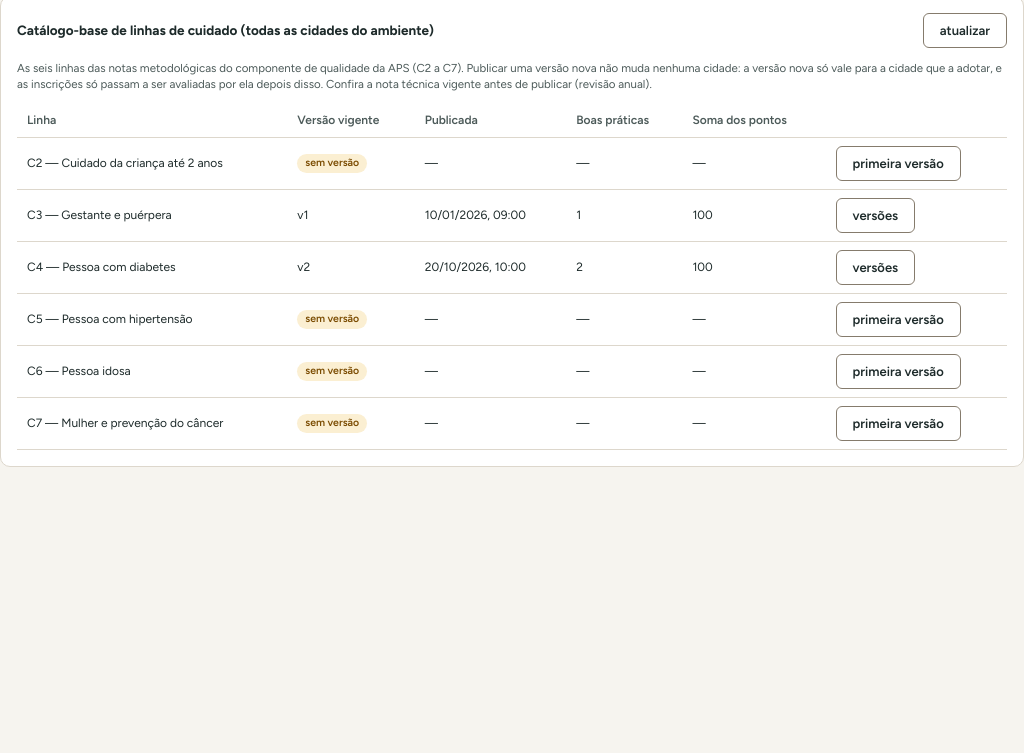
Test: CareLineTemplateForm › soma diferente de 100 é recusada antes de enviar
Click the button "versões" in the row of "C4 — Pessoa com diabetes" at coordinates (875, 268), box [836,250,915,285]
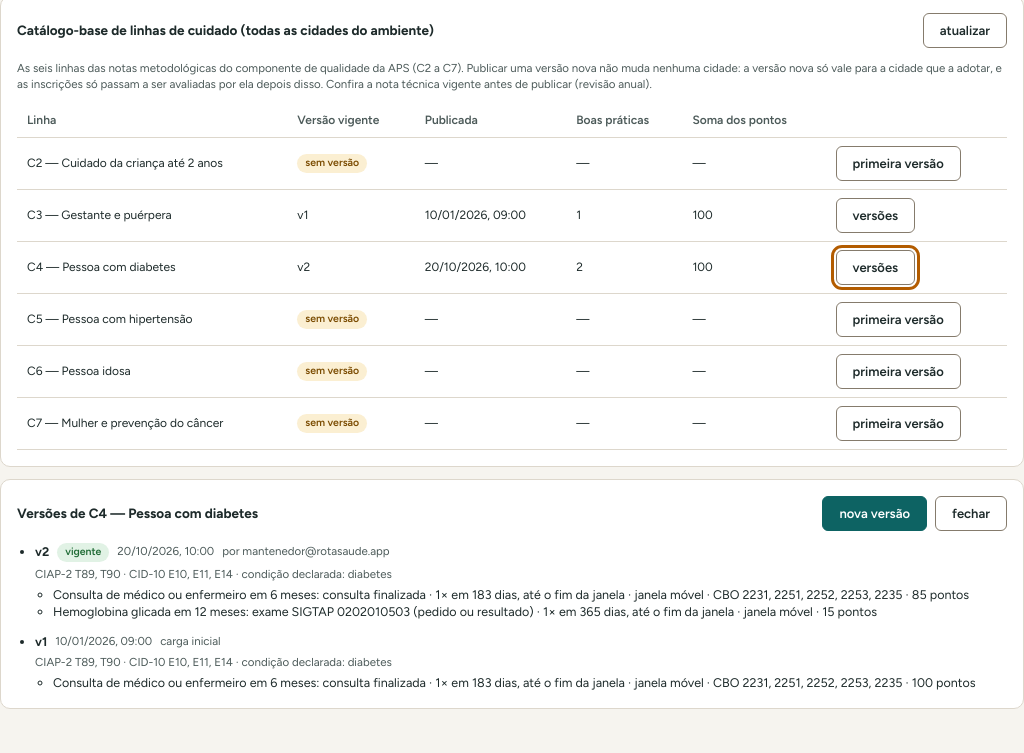
Click the button "nova versão" at coordinates (875, 514), box [822,496,927,531]
(page scrolled)
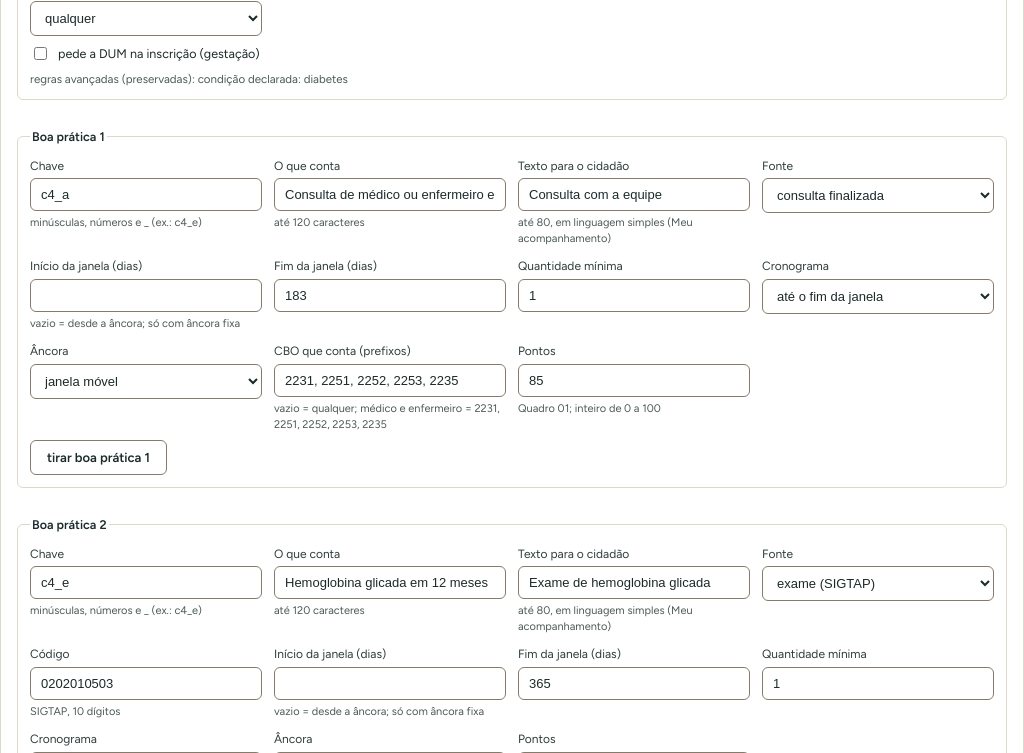
Replace the text in the field labelled "Pontos" below "CBO que conta (prefixos)" with "80" at coordinates (634, 381), box [518,364,750,397]
(page scrolled)
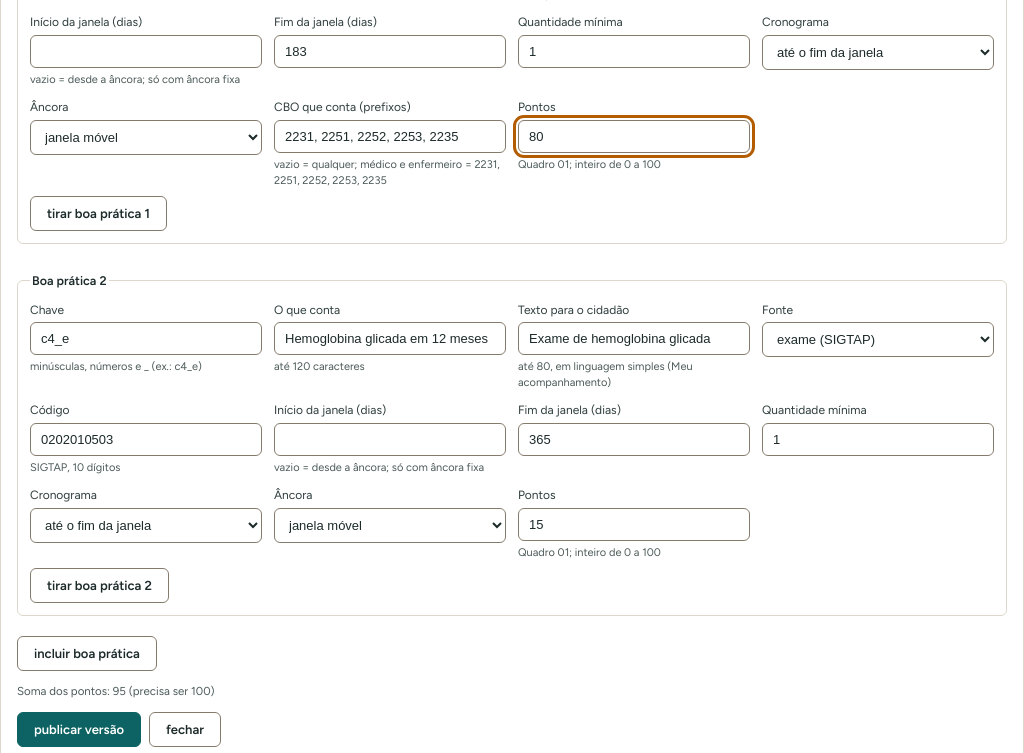
Check: the text "Soma dos pontos: 95 (precisa ser 100)" is shown, box [17,684,215,698]
Click the button "publicar versão" at coordinates (79, 729), box [17,712,141,747]
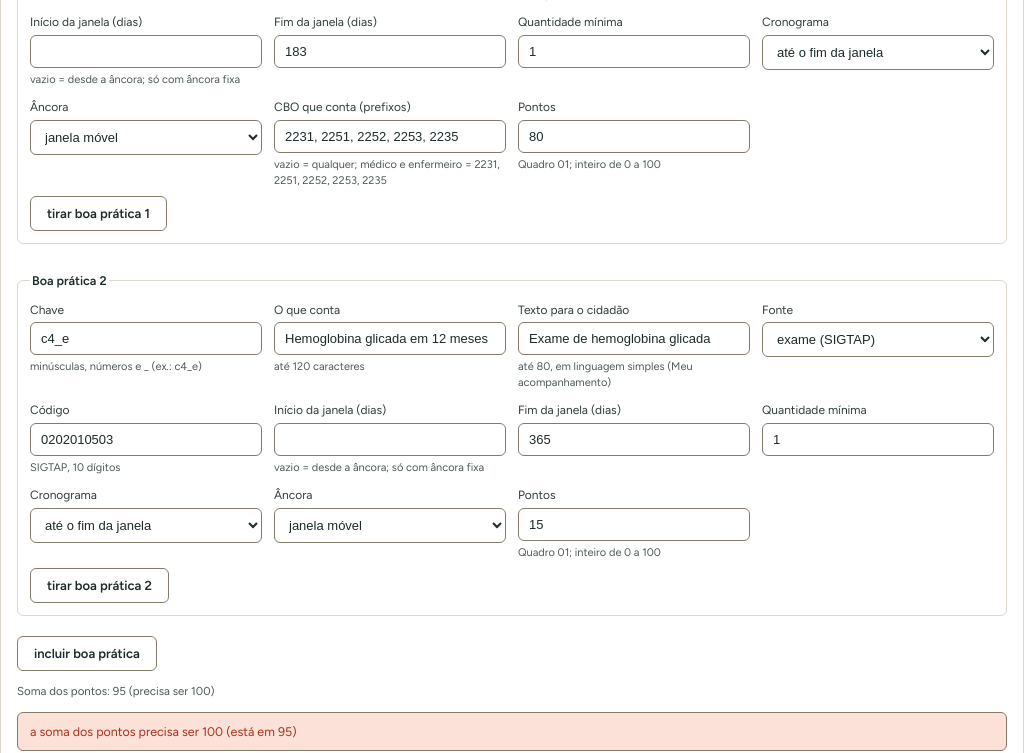
Check: the message reads "a soma dos pontos precisa ser 100 (está em 95)", box [30,724,297,739]
